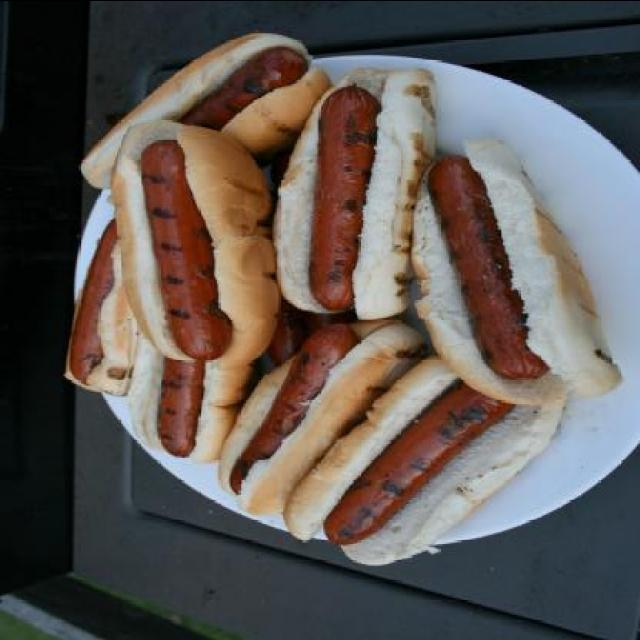Hot dog: (62, 30, 626, 564), (111, 120, 283, 368), (262, 72, 428, 328)
